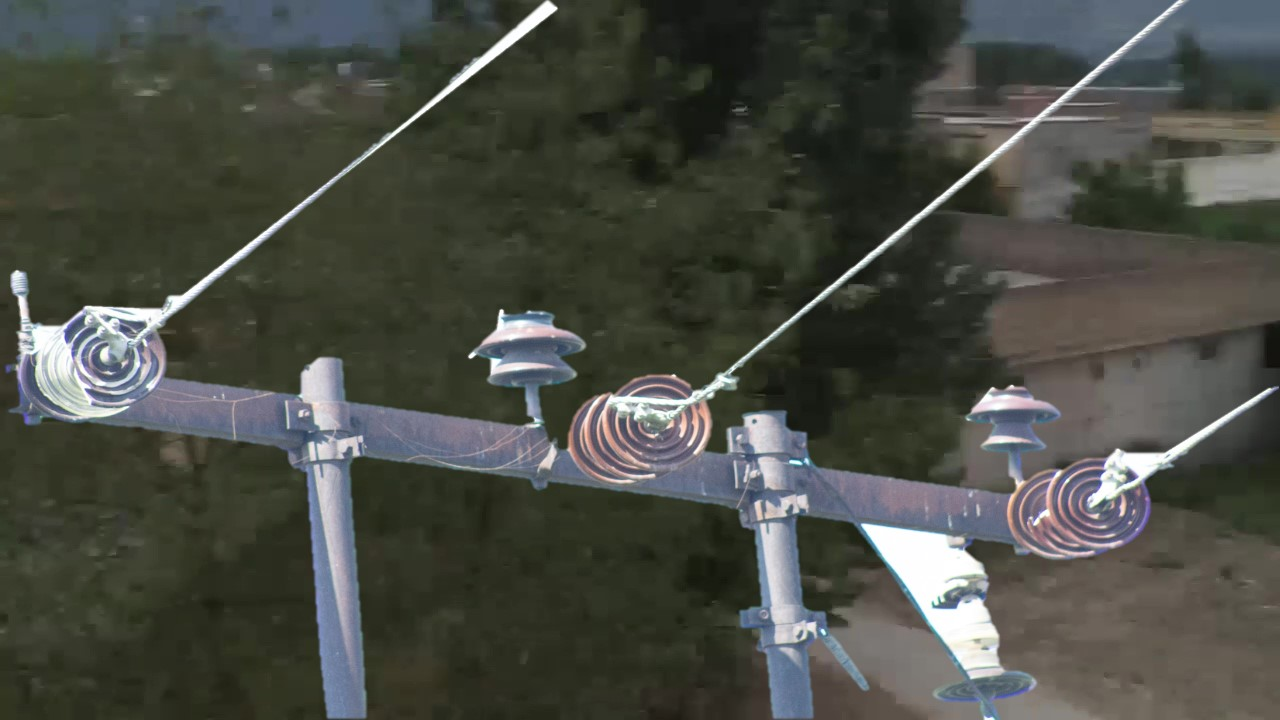defect_disc: (55, 295, 170, 415)
insulator_disc: (1040, 445, 1158, 557), (601, 364, 717, 473)
